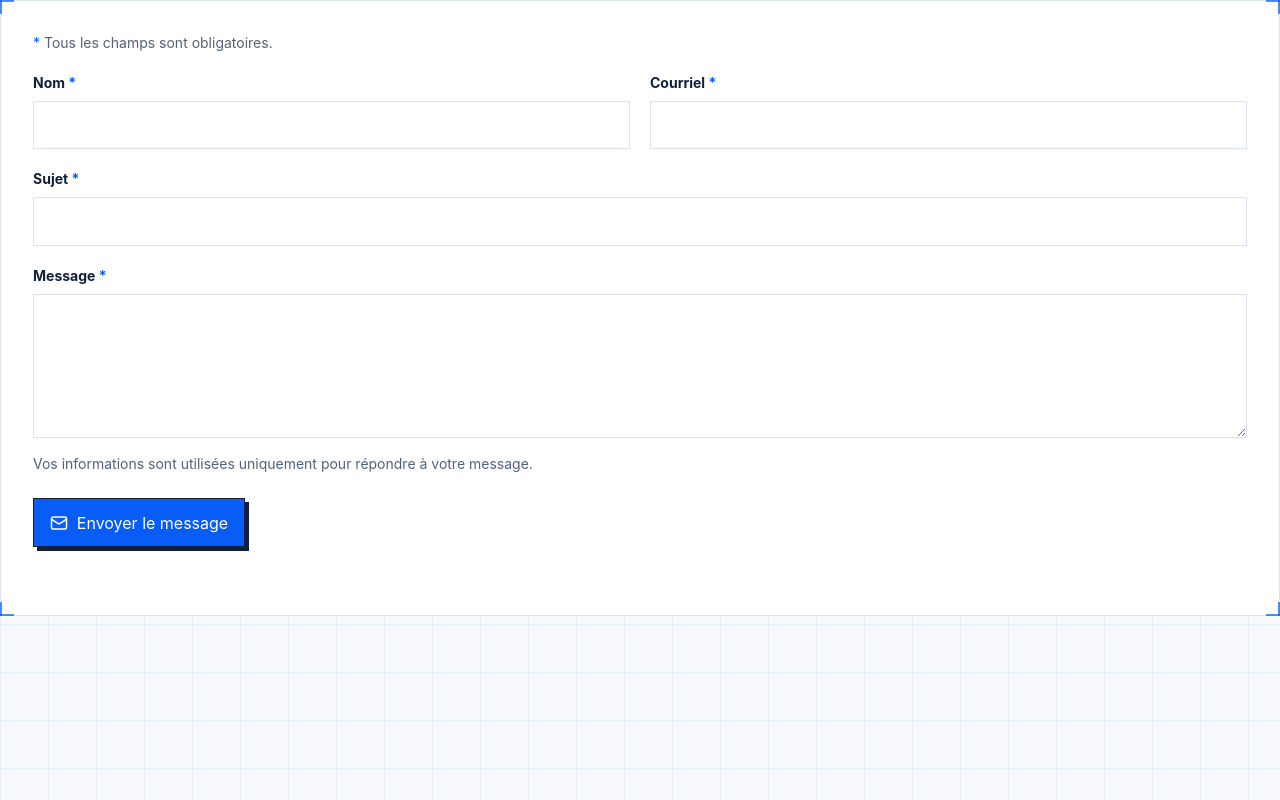
Test: contact form › reports a failed submission without clearing the form
Type "Alice Martin" into the field labelled "Nom *".
click(332, 125); type("Alice Martin")  # box x1=33 y1=101 x2=630 y2=149
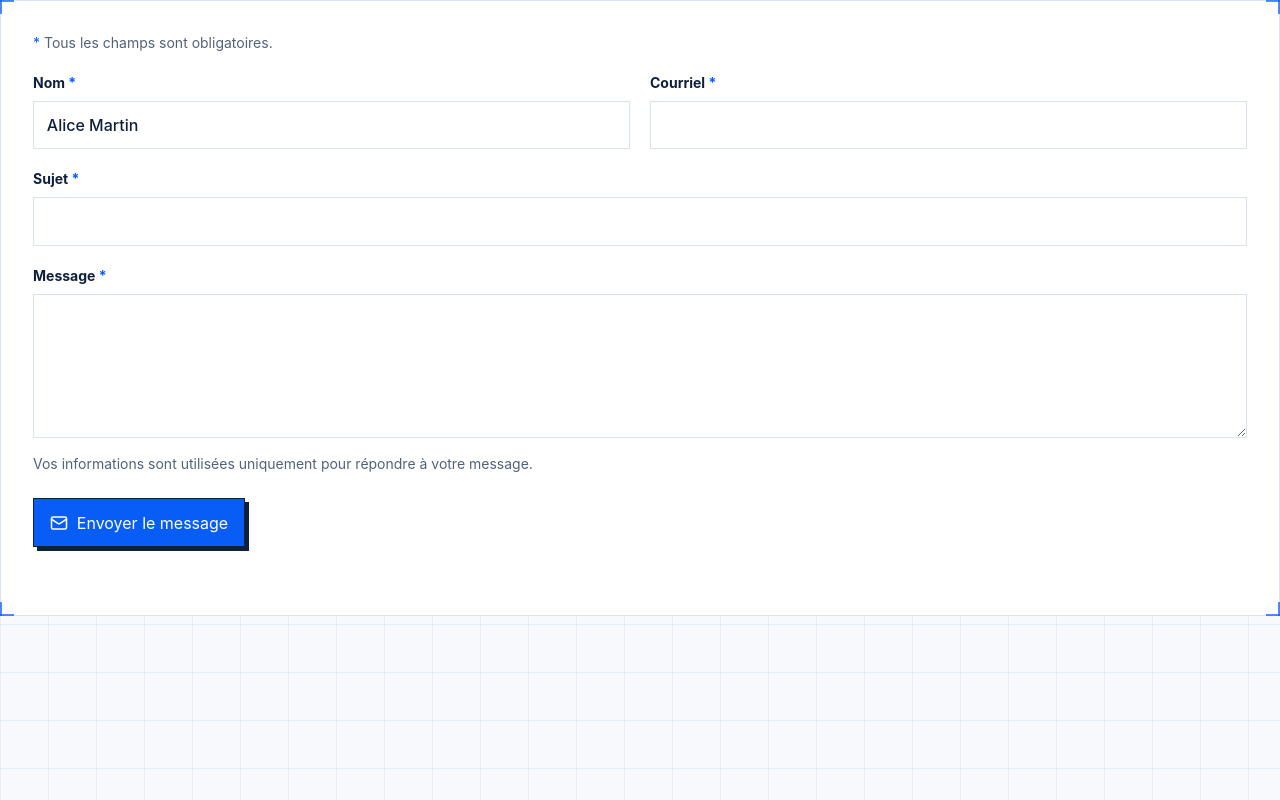
Type "alice@example.com" into the field labelled "Courriel *".
click(948, 125); type("alice@example.com")  # box x1=650 y1=101 x2=1247 y2=149
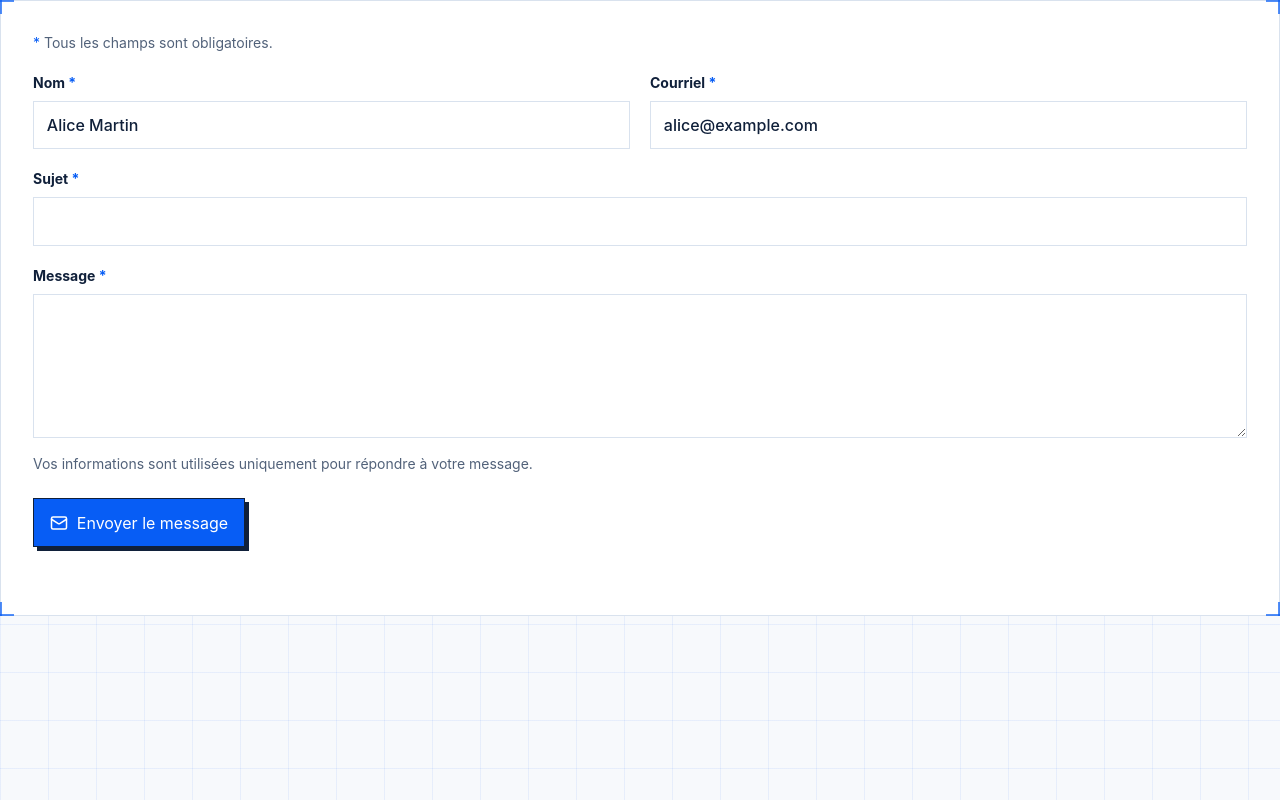
Type "Projet web" into the field labelled "Sujet *".
click(640, 222); type("Projet web")  # box x1=33 y1=197 x2=1247 y2=246
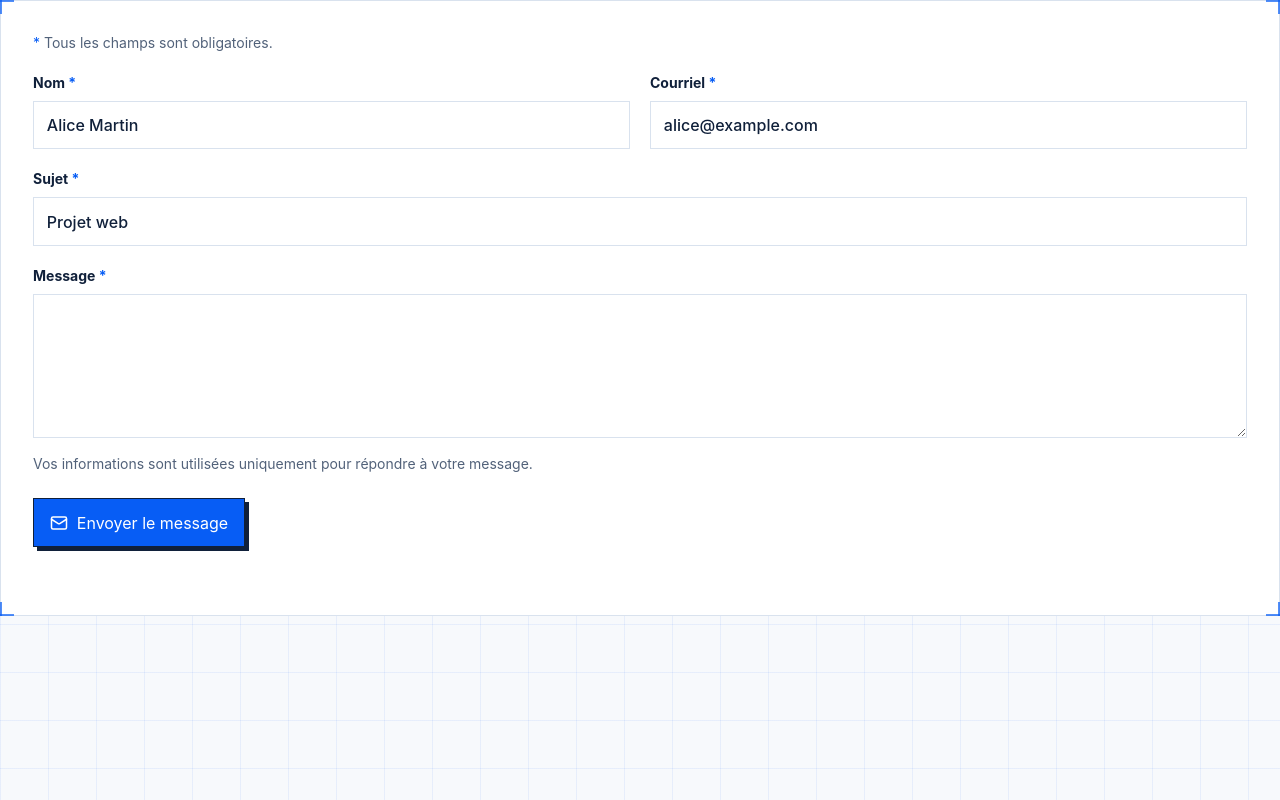
Type "Bonjour, discutons de mon prochain projet web." into the text box labelled "Message *".
click(640, 366); type("Bonjour, discutons de mon prochain projet web.")  # box x1=33 y1=294 x2=1247 y2=438
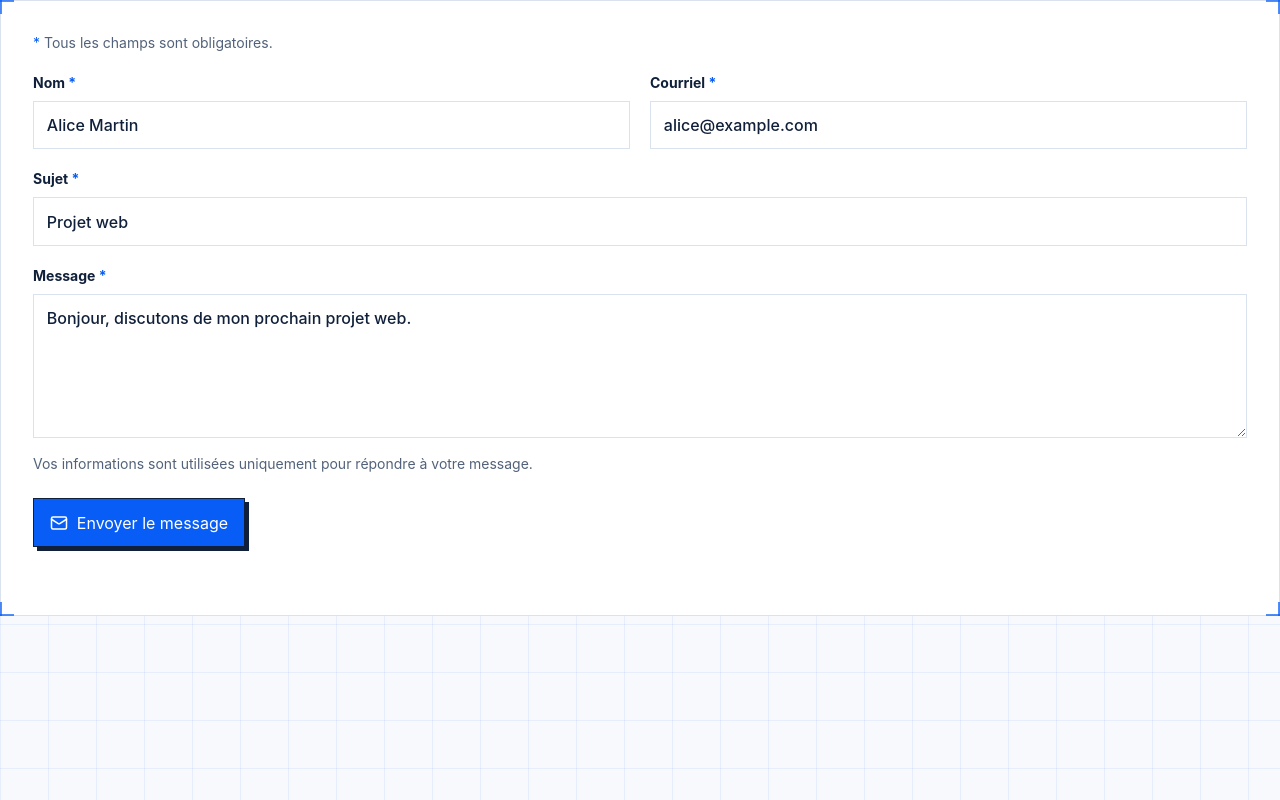
Submit the form
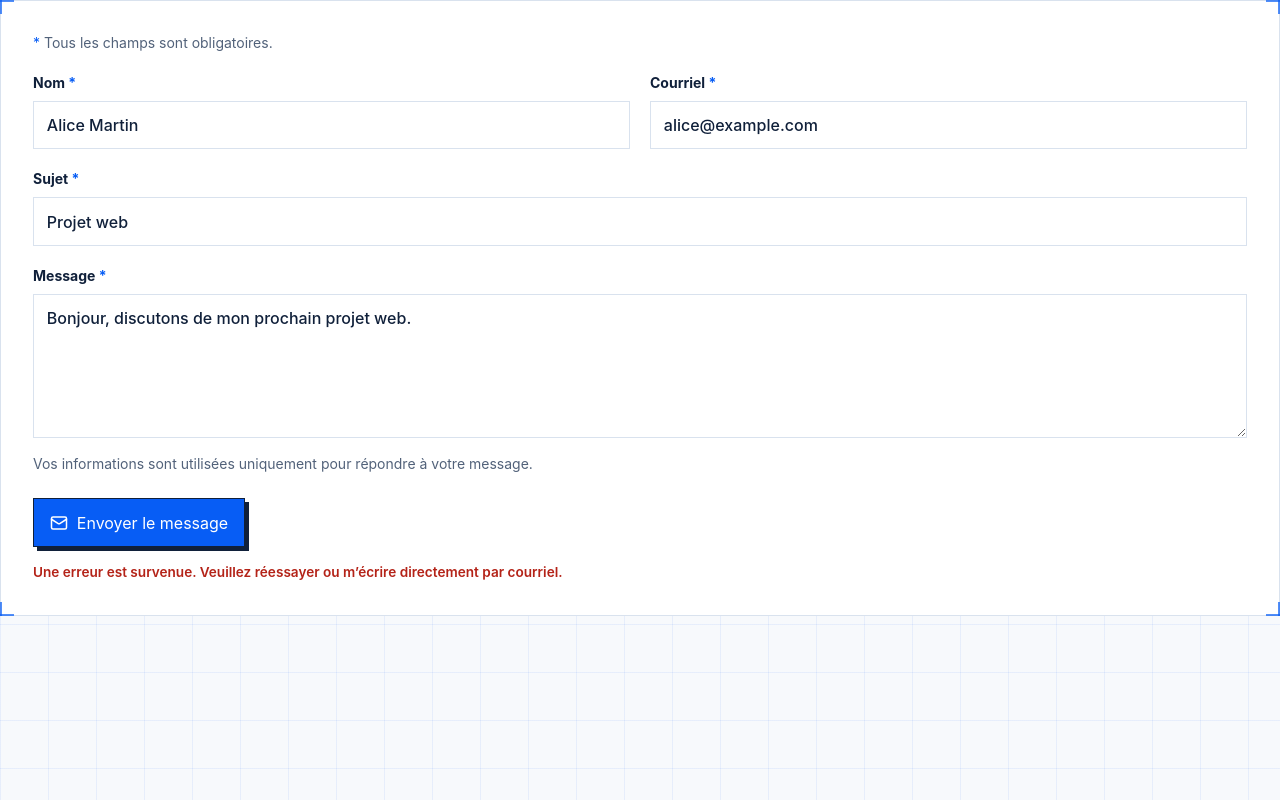
Expected: the message shows "Une erreur est survenue", x1=33 y1=564 x2=563 y2=580
